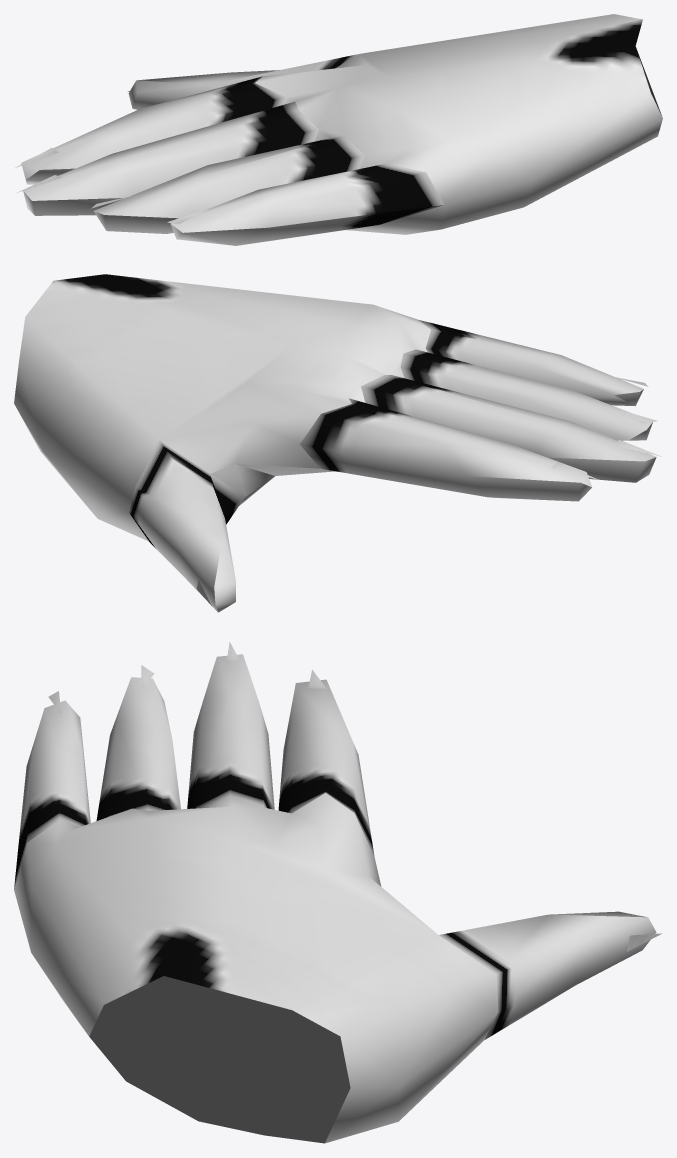
File: left-hand.glb
The picture shows the model from 3 angles, top to bottom: view 1: azimuth 30°, elevation 25°; view 2: azimuth 150°, elevation 25°; view 3: azimuth 270°, elevation 25°; orthographic projection. The views are drawn at different scales.
Visible parts, largest first — view 1: LeftHand; view 2: LeftHand; view 3: LeftHand.
Boxes of the visible parts, x1=… form: LeftHand: x1=15, y1=14, x2=662, y2=245; LeftHand: x1=14, y1=274, x2=661, y2=612; LeftHand: x1=14, y1=642, x2=662, y2=1143.
Bounding box in the file's own units: 0.1725 × 0.0448 × 0.1245.
1 material, 1 textured.
